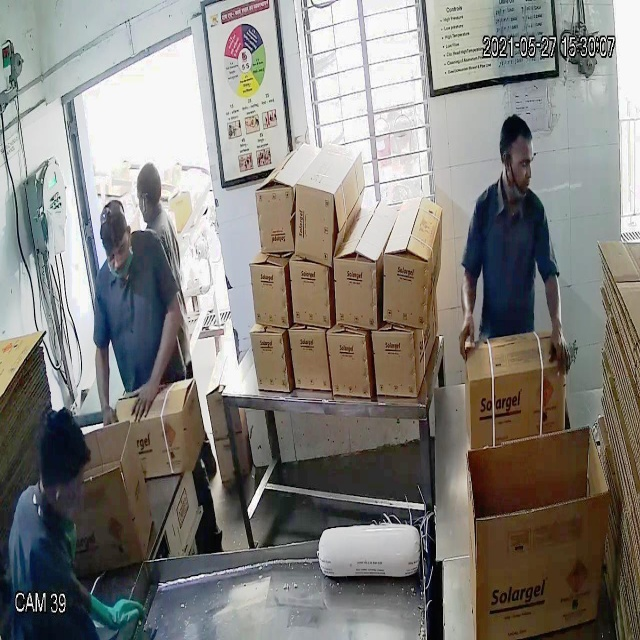Sin_gafas: (496, 144, 542, 181), (97, 236, 138, 269)
